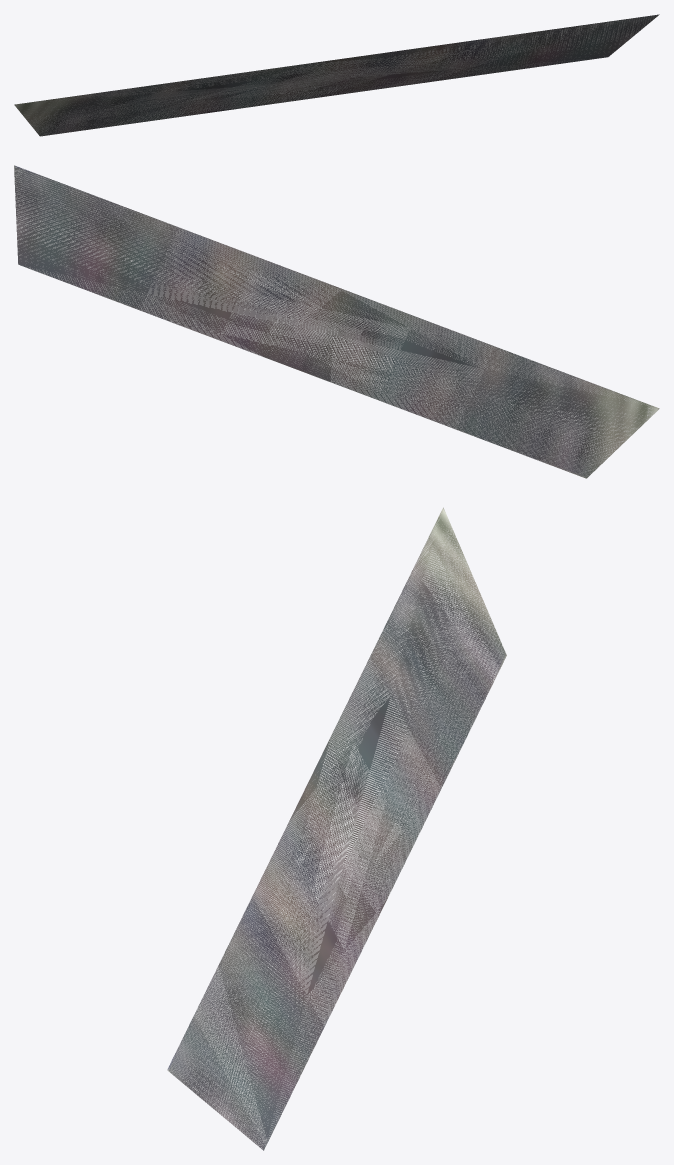
The model's file is 大本钟196.dae.
3 views of the same model, one above another, from view 1: azimuth 30°, elevation 25°; view 2: azimuth 150°, elevation 25°; view 3: azimuth 270°, elevation 25° (orthographic). The views are drawn at different scales.
Parts seen in each view (by area): view 1: SketchUp; view 2: SketchUp; view 3: SketchUp.
Part boxes in pixels (x1=…): SketchUp: x1=14, y1=14, x2=659, y2=136; SketchUp: x1=14, y1=165, x2=659, y2=478; SketchUp: x1=167, y1=507, x2=506, y2=1150.
Size of the model in its own units: 242 by 61.79 by 21.58.
2 materials, 1 textured.
